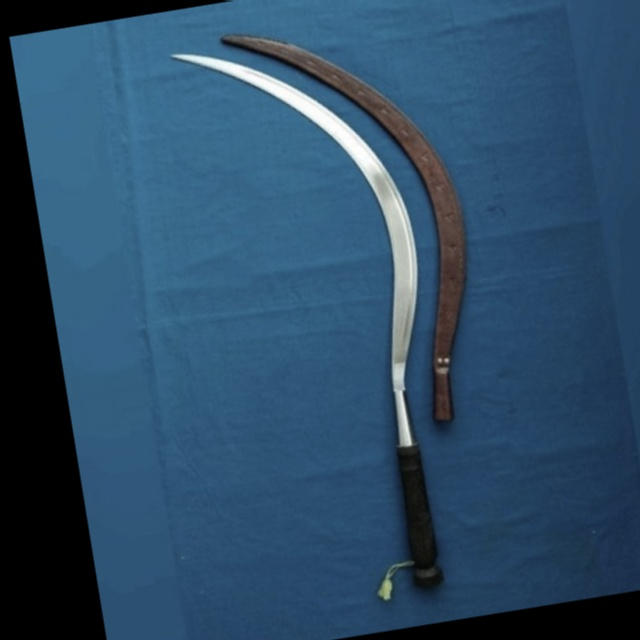Sharp-Object: (166, 19, 451, 617)
